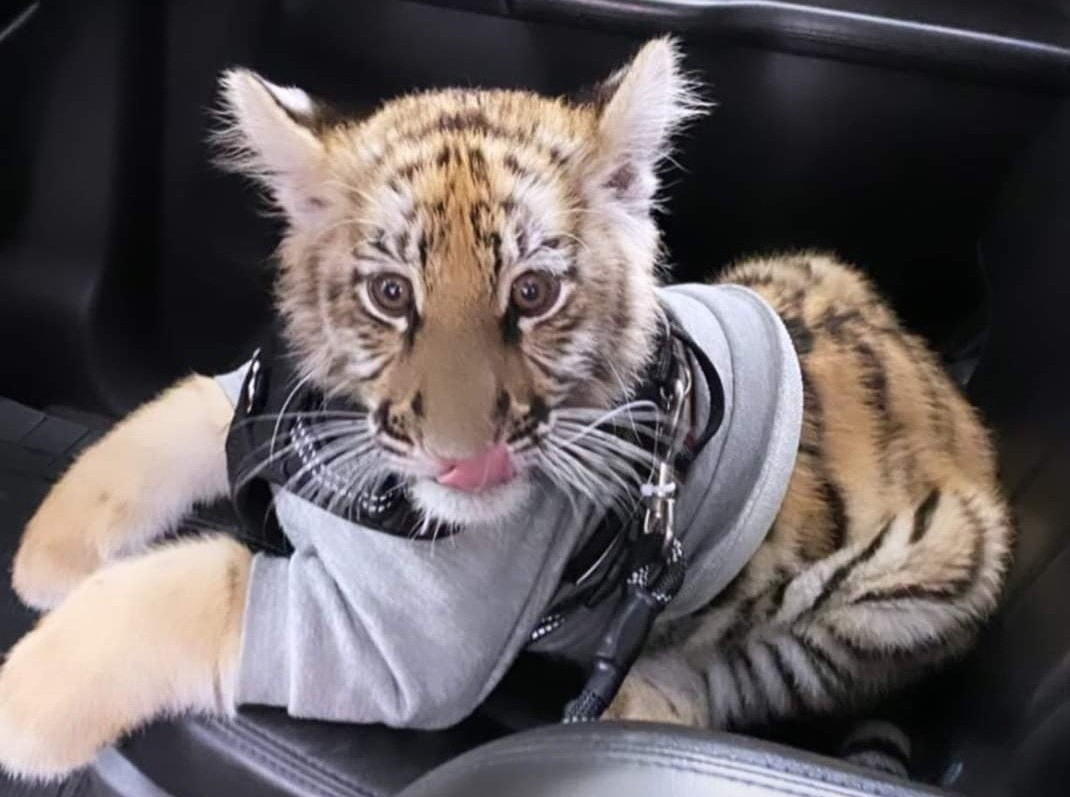Tigrew: (195, 36, 1009, 726)
